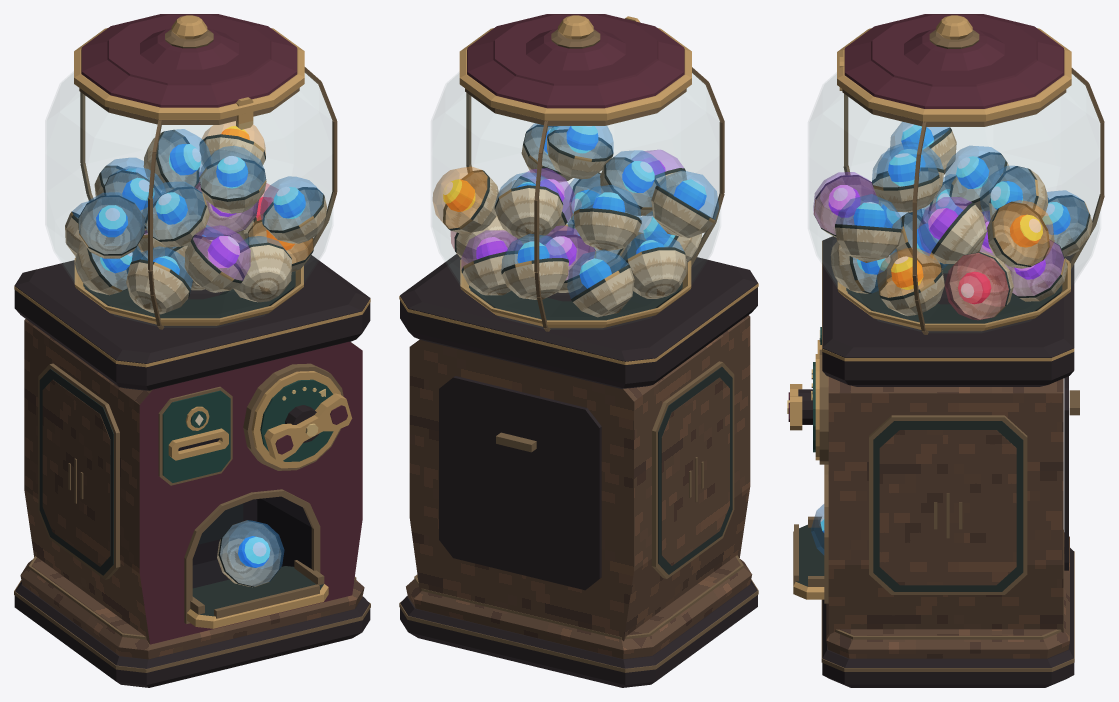
Rendered from gachapon.glb.
3 views of the same model, side by side, from view 1: azimuth 30°, elevation 25°; view 2: azimuth 150°, elevation 25°; view 3: azimuth 270°, elevation 25° (orthographic).
Visible parts, largest first — view 1: Cabinet | inset delivery vault, Mantel | basal moulding, Hopper_Glass, Lid | garnet crown, Stock_Layer_03, Stock_Layer_02, Side | walnut field, Foot | ebonised plinth, Stock_Layer_01, Foot | walnut shoe, Delivery | projecting catch tray, Payment | green enamel (+21 smaller); view 2: Cabinet | inset delivery vault, Service | rear hatch, Mantel | basal moulding, Hopper_Glass, Stock_Layer_03, Lid | garnet crown, Stock_Layer_02, Stock_Layer_01, Side | walnut field, Foot | ebonised plinth, Foot | walnut shoe, Lid | brass overhang (+10 smaller); view 3: Cabinet | inset delivery vault, Side | walnut field.001, Stock_Layer_02, Hopper_Glass, Mantel | basal moulding, Lid | garnet crown, Stock_Layer_03, Stock_Layer_01, Foot | ebonised plinth, Foot | walnut shoe, Side | lacquer panel.001, Lid | brass overhang (+16 smaller).
Part boxes in pixels (x1,y1,x2,y2): Cabinet | inset delivery vault: (24, 319, 362, 644); Mantel | basal moulding: (14, 255, 370, 390); Hopper_Glass: (47, 73, 331, 291); Lid | garnet crown: (81, 14, 297, 107); Stock_Layer_03: (78, 121, 266, 258); Stock_Layer_02: (94, 158, 326, 314); Side | walnut field: (42, 379, 110, 566); Foot | ebonised plinth: (14, 581, 370, 687); Stock_Layer_01: (65, 172, 313, 302); Foot | walnut shoe: (20, 557, 364, 659); Delivery | projecting catch tray: (187, 566, 328, 628); Payment | green enamel: (162, 390, 230, 482); Cabinet | inset delivery vault: (409, 315, 750, 641); Service | rear hatch: (439, 376, 601, 590); Mantel | basal moulding: (400, 254, 757, 388); Hopper_Glass: (432, 73, 719, 292); Stock_Layer_03: (433, 126, 718, 240); Lid | garnet crown: (467, 14, 684, 108); Stock_Layer_02: (451, 123, 701, 299); Stock_Layer_01: (461, 172, 687, 317); Side | walnut field: (661, 377, 729, 565); Foot | ebonised plinth: (400, 580, 757, 687); Foot | walnut shoe: (406, 556, 752, 659); Lid | brass overhang: (459, 28, 691, 120); Cabinet | inset delivery vault: (828, 377, 1063, 634); Side | walnut field.001: (879, 430, 1016, 585); Stock_Layer_02: (813, 146, 1092, 320); Hopper_Glass: (809, 74, 1099, 295); Mantel | basal moulding: (822, 236, 1074, 386); Lid | garnet crown: (844, 14, 1064, 108); Stock_Layer_03: (872, 122, 1054, 268); Stock_Layer_01: (830, 174, 1067, 315); Foot | ebonised plinth: (822, 548, 1074, 687); Foot | walnut shoe: (826, 532, 1069, 658); Side | lacquer panel.001: (873, 421, 1023, 591); Lid | brass overhang: (837, 28, 1071, 121).
Bounding box in the file's own units: 0.8641 × 1.94 × 0.9143.
29 materials, 2 textured.
